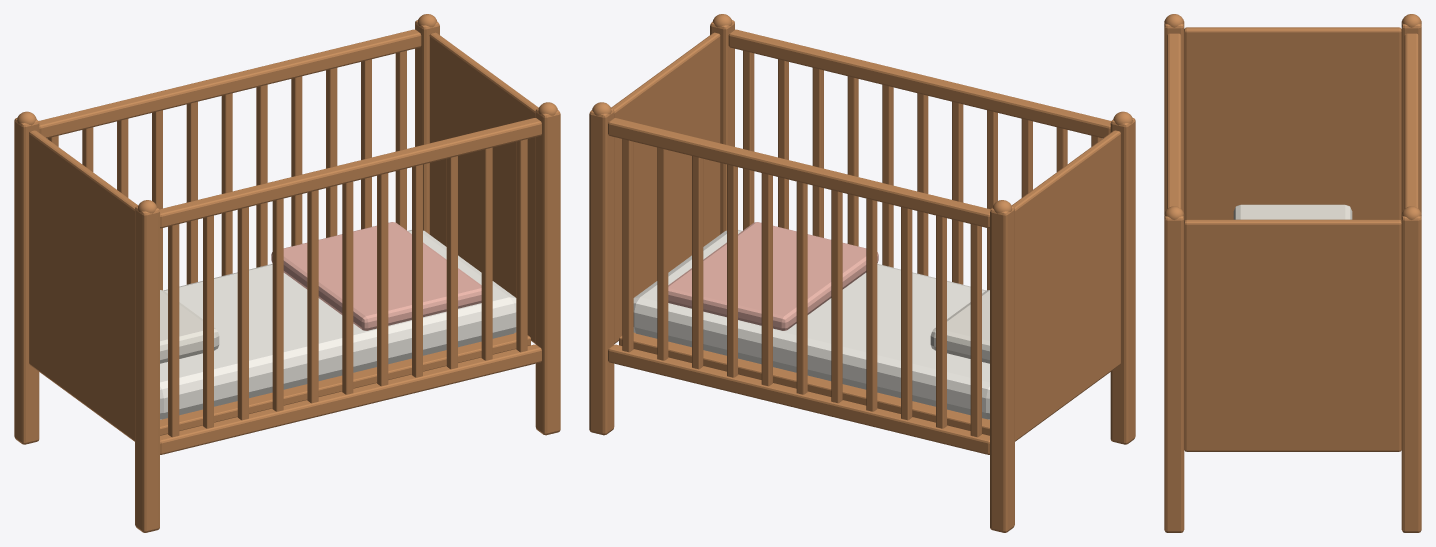
File: hh_cat_cot.glb
3 renders of one model, left to right at view 1: azimuth 30°, elevation 25°; view 2: azimuth 150°, elevation 25°; view 3: azimuth 270°, elevation 25°, orthographic.
Parts seen in each view (by area): view 1: end_panel, mattress, end_panel.001, blanket, post.002, post, rail.001, rail.003, rail, post.001, base, bar (+21 smaller); view 2: end_panel, mattress, end_panel.001, blanket, post.003, post.001, rail.003, rail.001, rail.002, post, base, bar.011 (+21 smaller); view 3: end_panel.001, end_panel, post.002, post.003, rail.001, rail.003, pillow, post, post.001.
Boxes of the visible parts, x1,y1,x2,y2 form: end_panel: (29, 130, 138, 441); mattress: (160, 230, 516, 419); end_panel.001: (429, 32, 538, 343); blanket: (271, 222, 481, 330); post.002: (535, 108, 560, 435); post: (135, 206, 159, 532); rail.001: (159, 118, 541, 228); rail.003: (38, 29, 421, 138); rail: (160, 344, 541, 454); post.001: (14, 117, 39, 444); base: (160, 332, 530, 435); bar: (168, 224, 179, 437); end_panel: (1011, 130, 1120, 441); mattress: (633, 230, 989, 419); end_panel.001: (611, 32, 720, 343); blanket: (668, 222, 878, 330); post.003: (589, 108, 614, 435); post.001: (990, 206, 1014, 532); rail.003: (608, 118, 990, 228); rail.001: (728, 29, 1111, 138); rail.002: (608, 344, 989, 454); post: (1110, 117, 1135, 444); base: (619, 332, 989, 435); bar.011: (970, 224, 981, 437); end_panel.001: (1184, 219, 1401, 451); end_panel: (1184, 27, 1401, 220); post.002: (1164, 213, 1184, 532); post.003: (1401, 213, 1421, 532); rail.001: (1167, 33, 1181, 208); rail.003: (1404, 33, 1418, 208); pillow: (1233, 204, 1352, 219); post: (1164, 19, 1184, 213); post.001: (1401, 19, 1421, 213).
Bounding box in the file's own units: 1.2 × 0.9 × 0.65.
